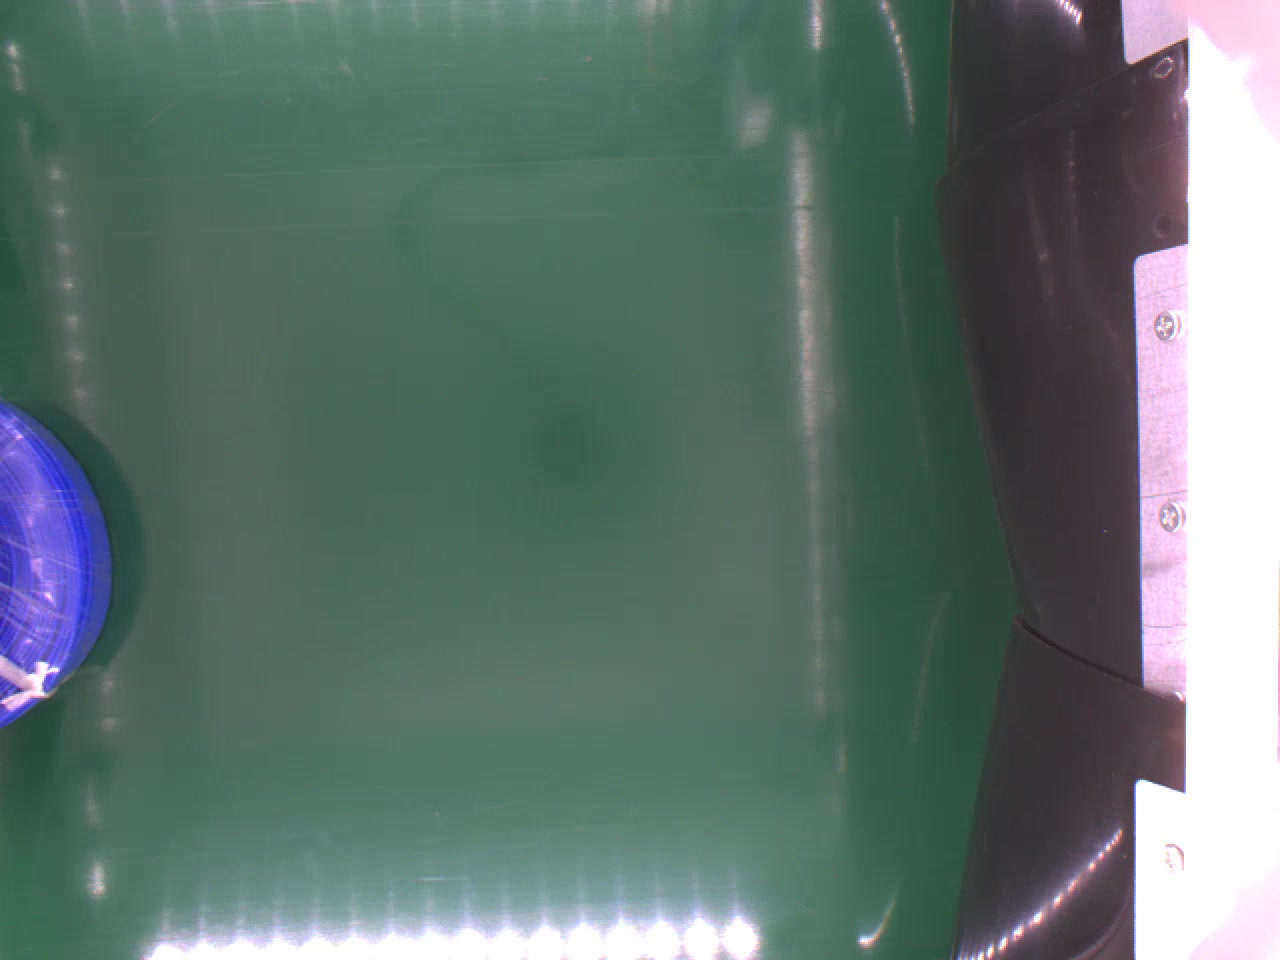blue: (0, 396, 119, 733)
